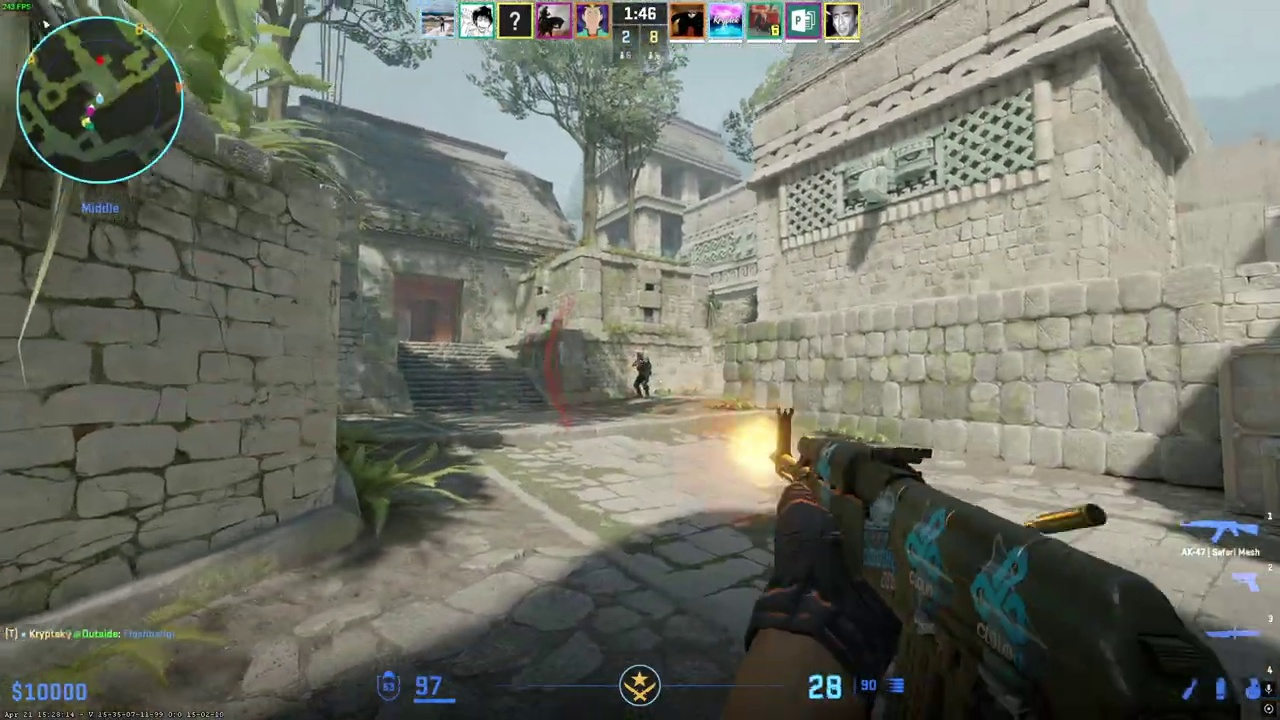CT: (632, 352, 652, 398)
